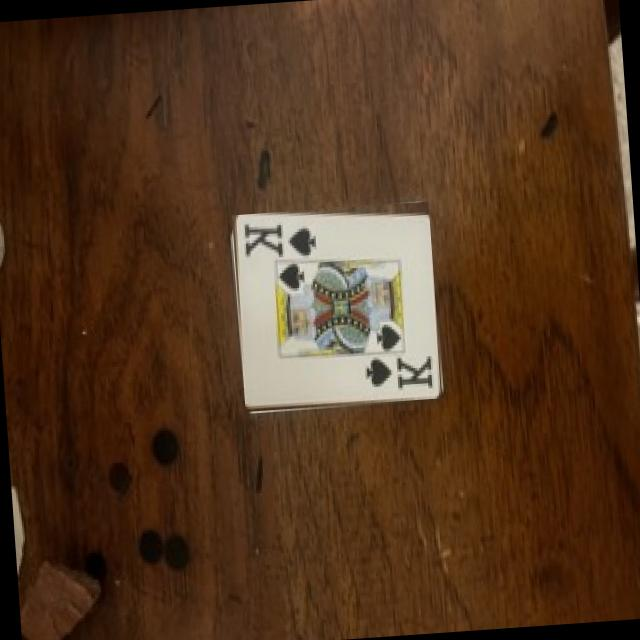King of spades: (236, 215, 440, 406)
